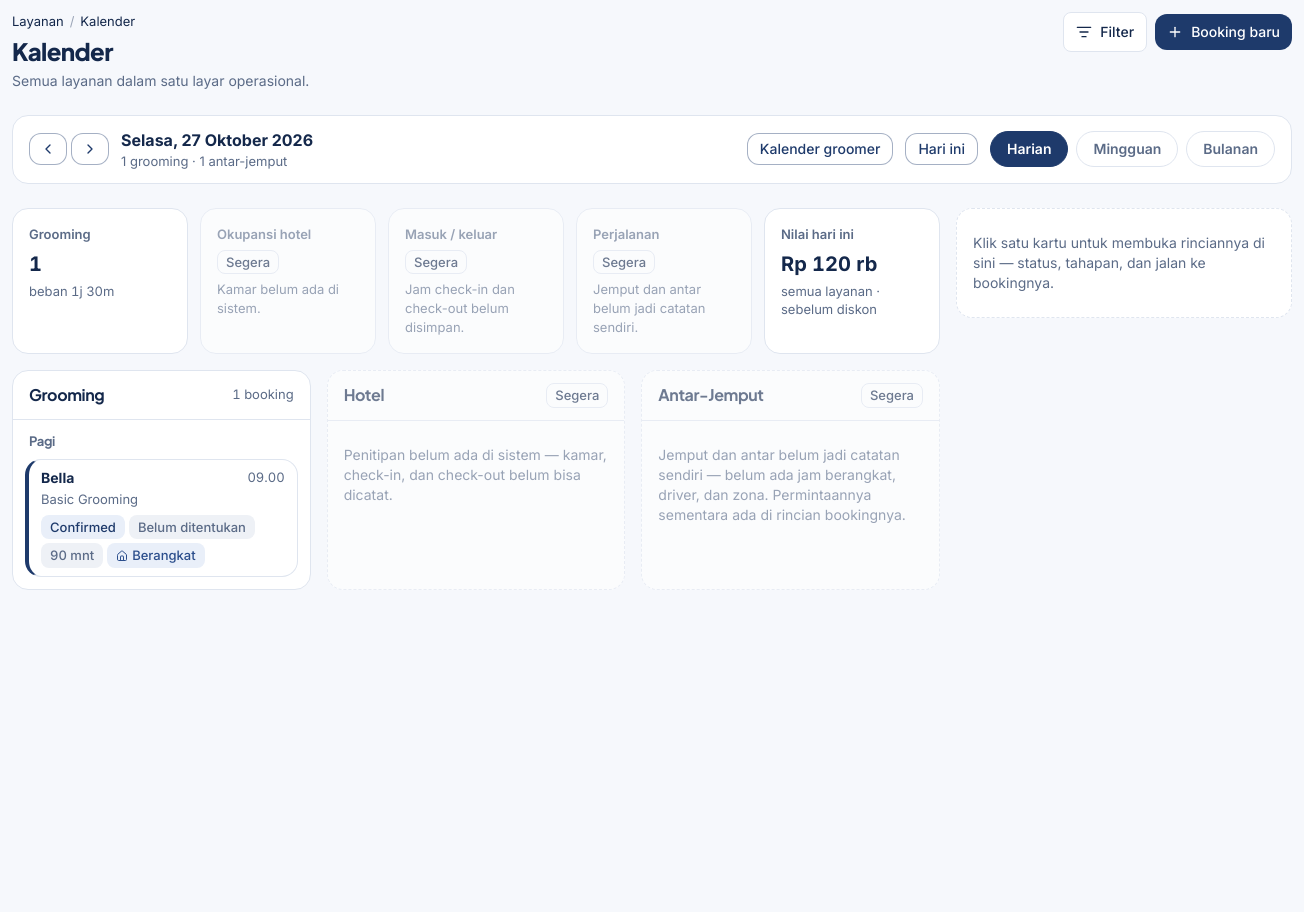
Hari Ini › shows where the trip to the house stands, on the card and in the panel
Check: the text "Berangkat" is shown, box [107, 543, 205, 568]
What coordinates should you click on to do the following:
click the button with aria-label "bella · basic grooming"
I would click on:
 (161, 518)
Its box is [25, 459, 298, 577].
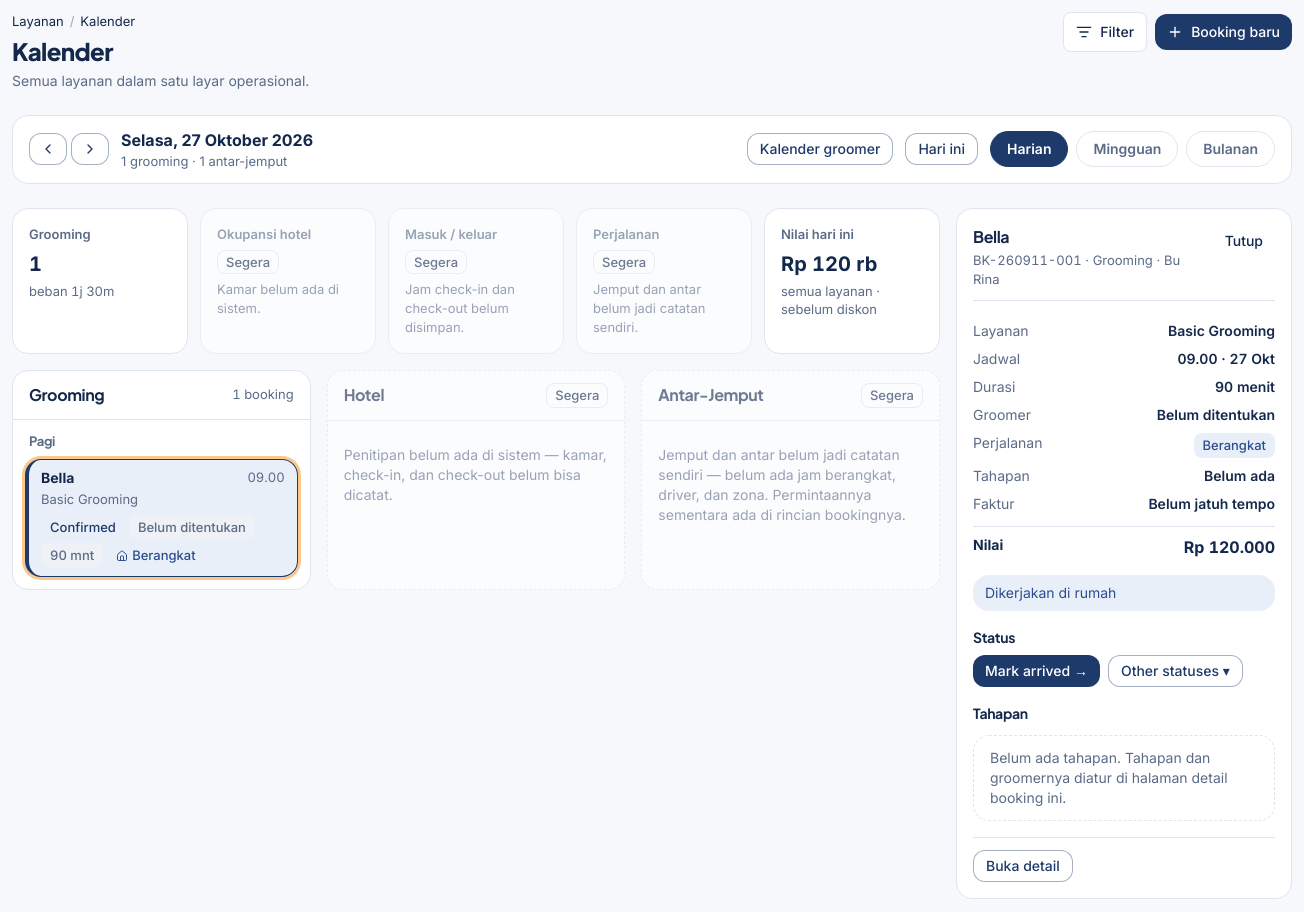
Check: the text "Perjalanan" below "Durasi" is shown, box [973, 434, 1042, 451]
Check: the text "Berangkat" is shown, box [1194, 433, 1275, 458]
